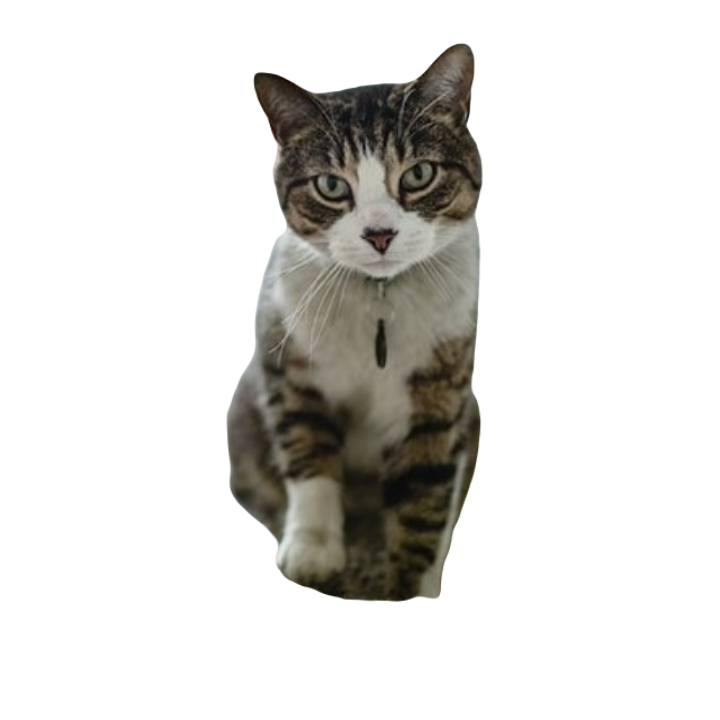Cat: (226, 35, 489, 627)
